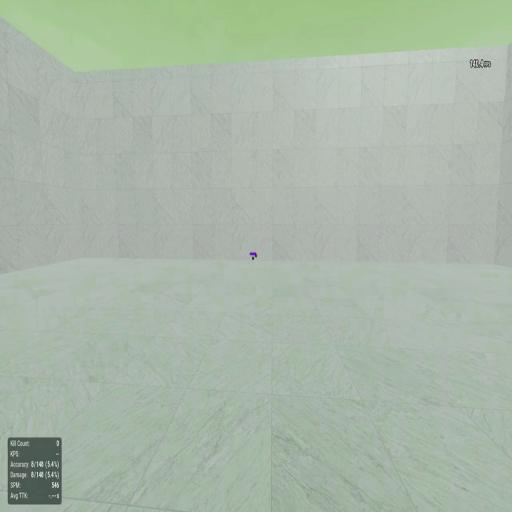Crosshair: (255, 254, 257, 258)
Target: (252, 256, 254, 260)
